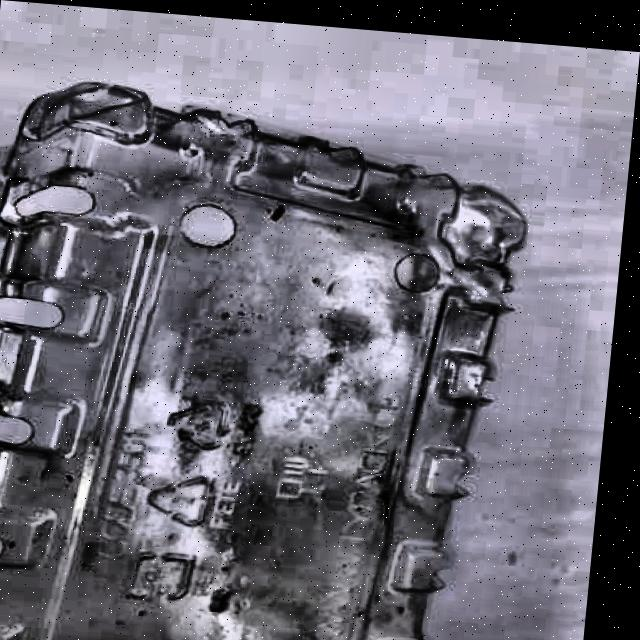plastic: (0, 77, 545, 640)
